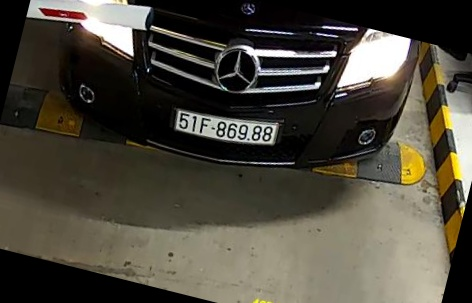plate: (170, 104, 285, 151)
